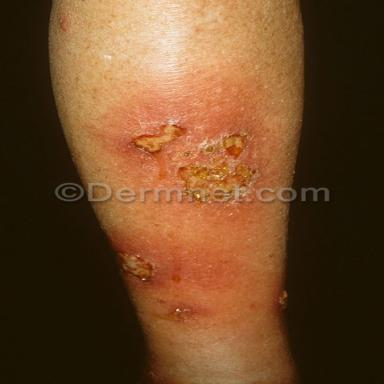Impetigo: (117, 116, 263, 186), (116, 250, 156, 284), (167, 304, 195, 321), (278, 290, 288, 309)
